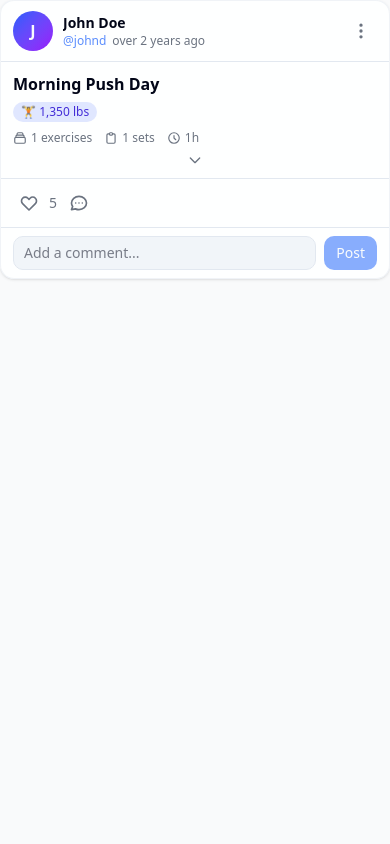
Test: FeedWorkoutCard › three-dot menu › should open copy modal when "Copy to plans" is clicked
// Open the menu
Click the button named "More options" at (361, 31), box [345,15,377,47]
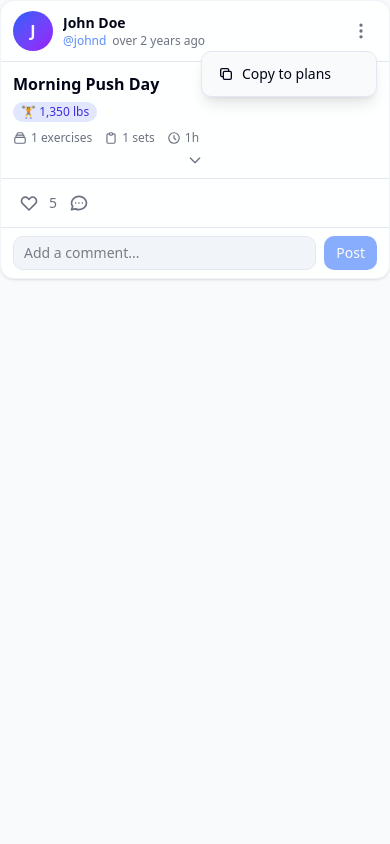
// Click "Copy to plans"
Click the button "Copy to plans" at (289, 74), box [202,56,376,92]
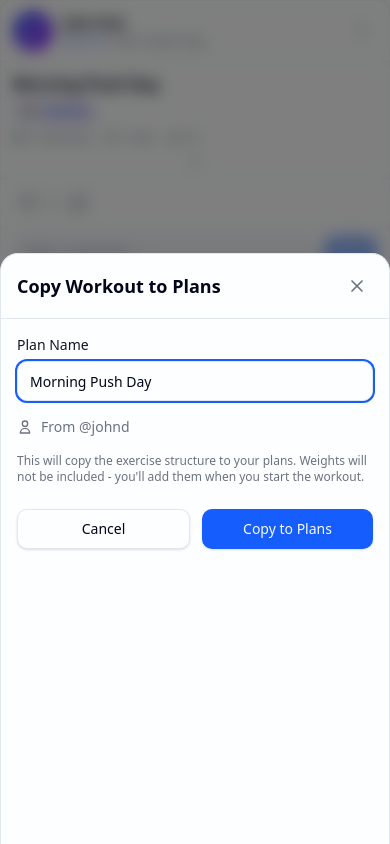
expect the heading "Copy Workout to Plans" is shown: met, box [17,272,221,300]
expect the text "Plan Name" is shown: met, box [17,335,89,354]
